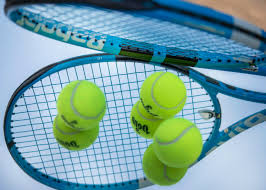tennis racket: (2, 51, 266, 190), (2, 1, 266, 77)
